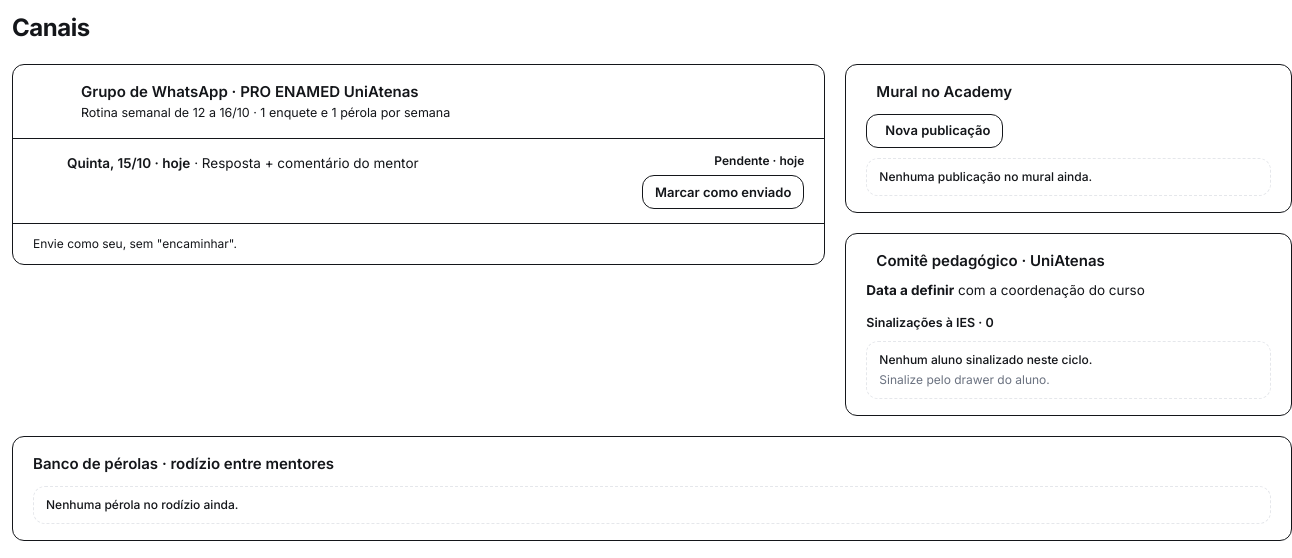
Test: Canais · erro › erro da fonte ao marcar como enviado aparece inline no item
This screenshot has width=1292, height=558.
Click the button "Marcar como enviado": (723, 192) [642, 175, 804, 209]
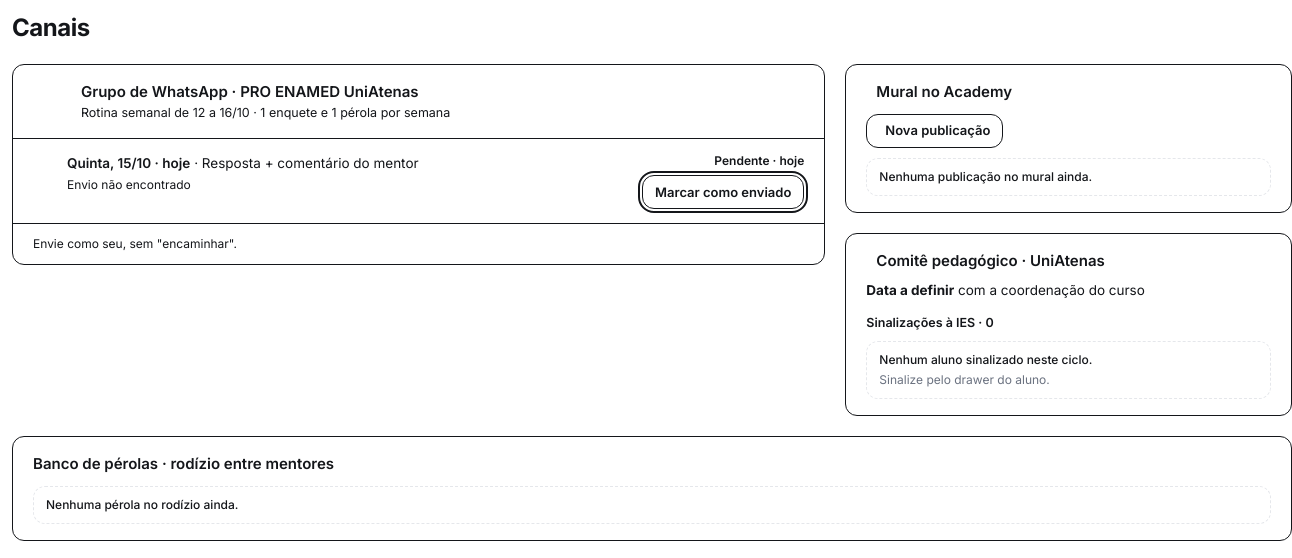
Check: the message "Envio não encontrado" is shown, box [67, 176, 191, 192]
